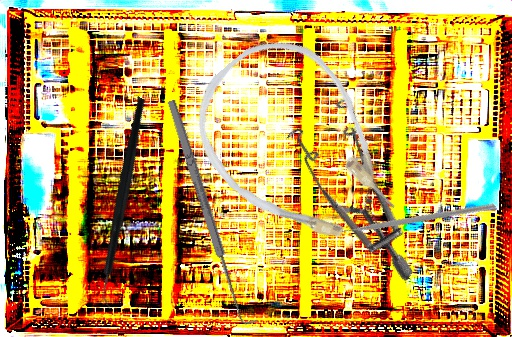Cannula: (169, 16, 425, 280)
Chopper: (35, 95, 216, 312), (327, 131, 497, 299)
Hook Surgical: (164, 96, 258, 328)
Speculum: (255, 79, 475, 284)
